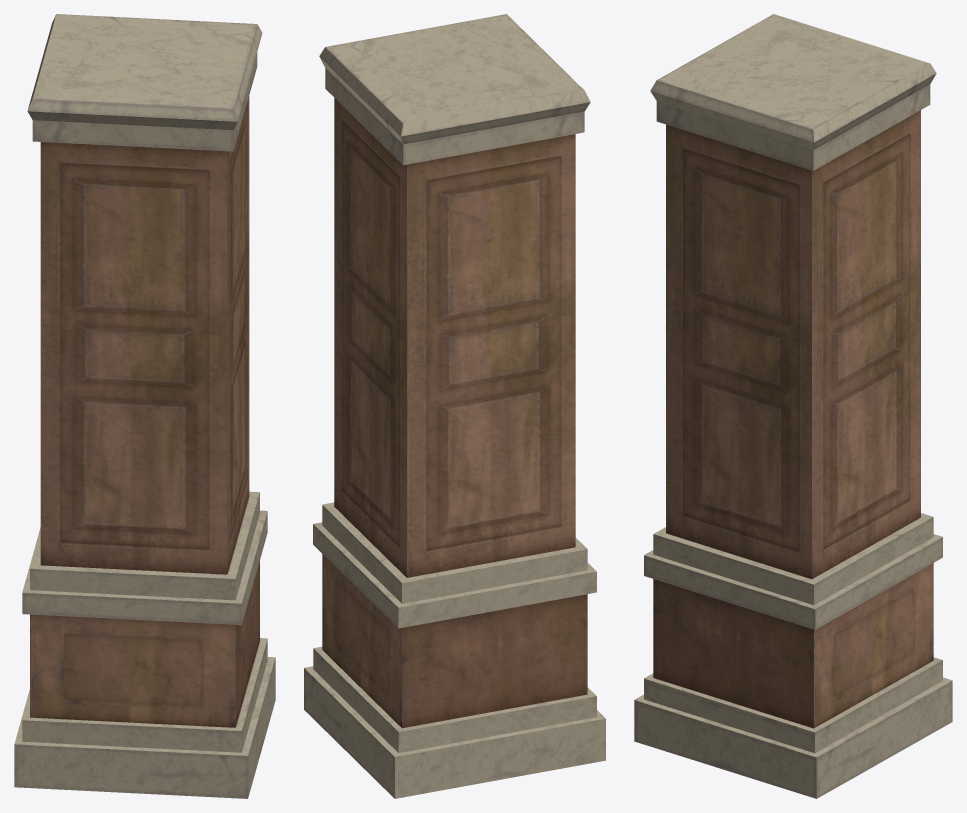
3 views of the same model, side by side, from view 1: azimuth 30°, elevation 25°; view 2: azimuth 150°, elevation 25°; view 3: azimuth 270°, elevation 25° (orthographic). The views are drawn at different scales.
Parts seen in each view (by area): view 1: SM_town_BD_1Fpillar__3_; view 2: SM_town_BD_1Fpillar__3_; view 3: SM_town_BD_1Fpillar__3_.
Part boxes in pixels (x1,y1,x2,y2): SM_town_BD_1Fpillar__3_: (14, 14, 275, 798); SM_town_BD_1Fpillar__3_: (304, 14, 605, 798); SM_town_BD_1Fpillar__3_: (634, 14, 952, 798).
Size of the model in its own units: 140 by 320 by 140.
